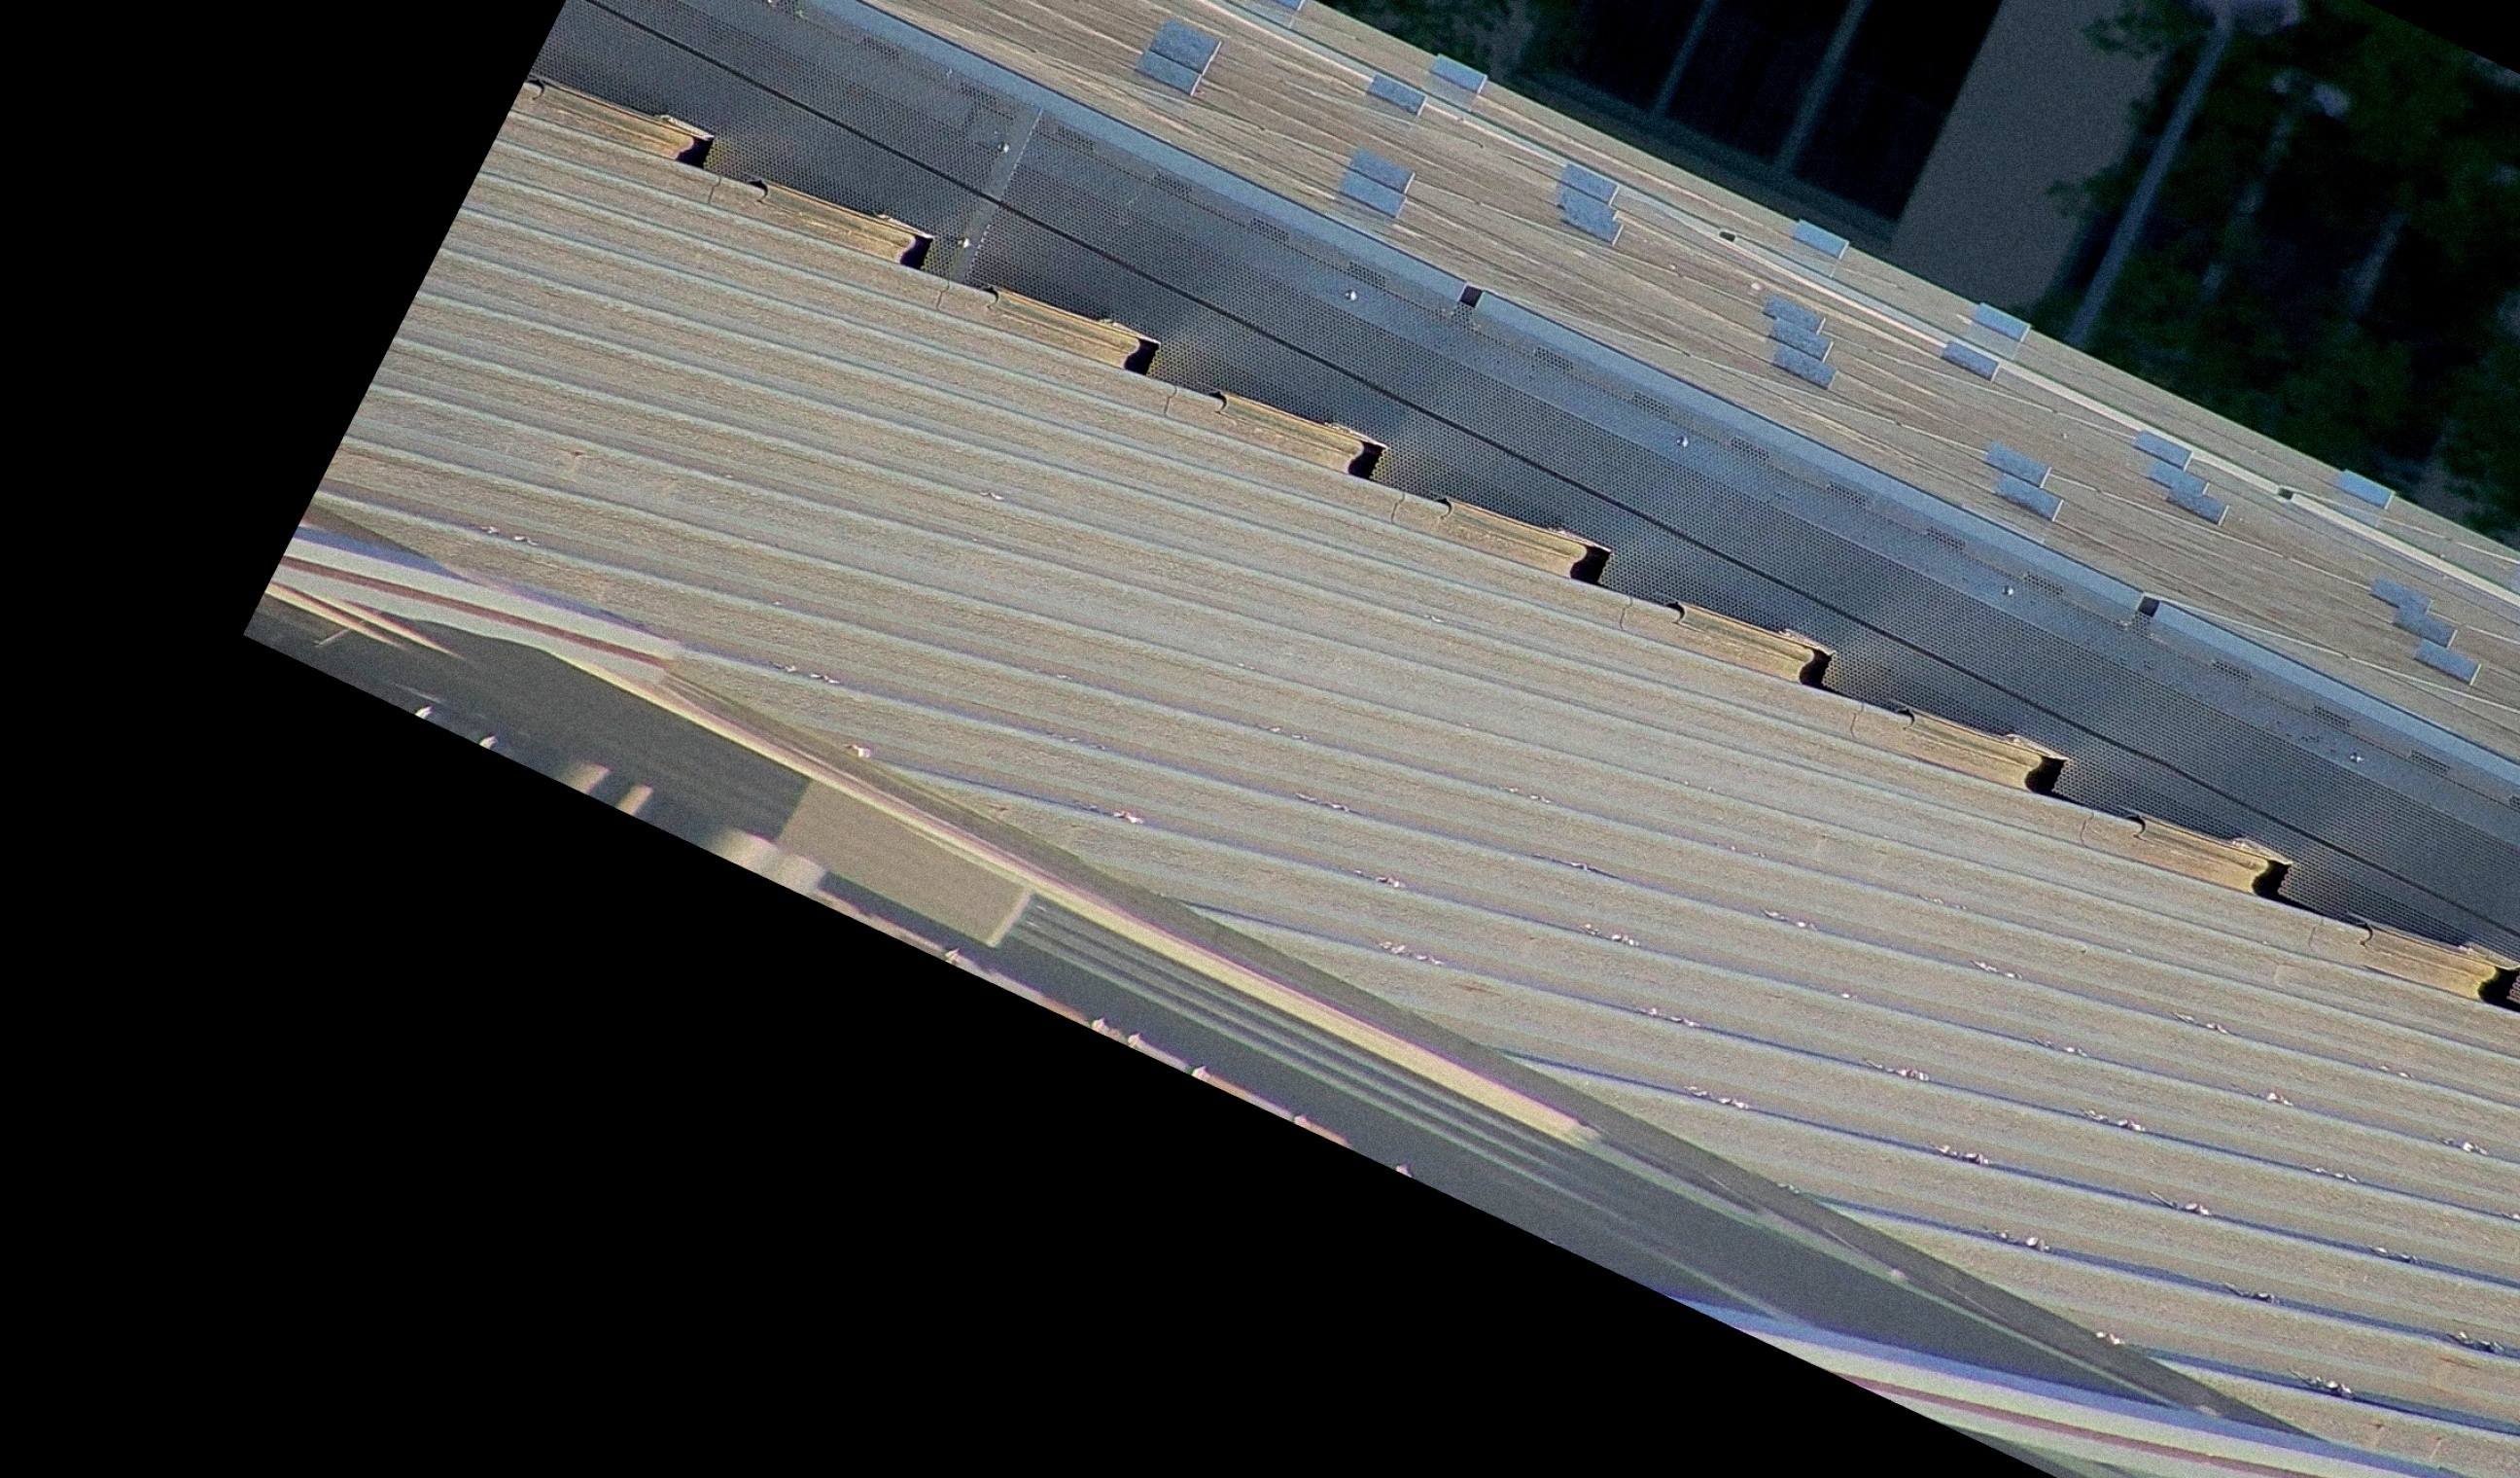Other: (2474, 947, 2520, 1028)
